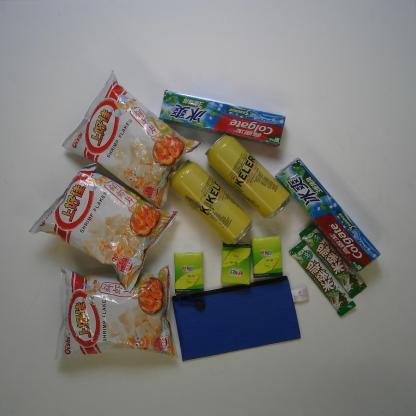Alcohol: (165, 154, 254, 252), (197, 132, 292, 221)
Chocolate: (286, 236, 361, 318), (298, 218, 370, 302)
Personal Hygiene: (273, 157, 382, 276), (155, 88, 290, 150)
Puffed Food: (58, 69, 204, 212), (26, 161, 180, 294), (51, 263, 182, 365)
Stationery: (170, 273, 310, 362)
Tissue: (166, 251, 209, 296), (249, 235, 286, 282), (217, 240, 252, 289)
